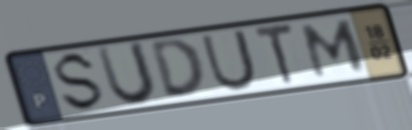D: (147, 36, 208, 101)
M: (299, 17, 369, 81)
S: (53, 49, 108, 114)
T: (251, 21, 297, 89)
U: (93, 39, 161, 108), (198, 28, 260, 94)
